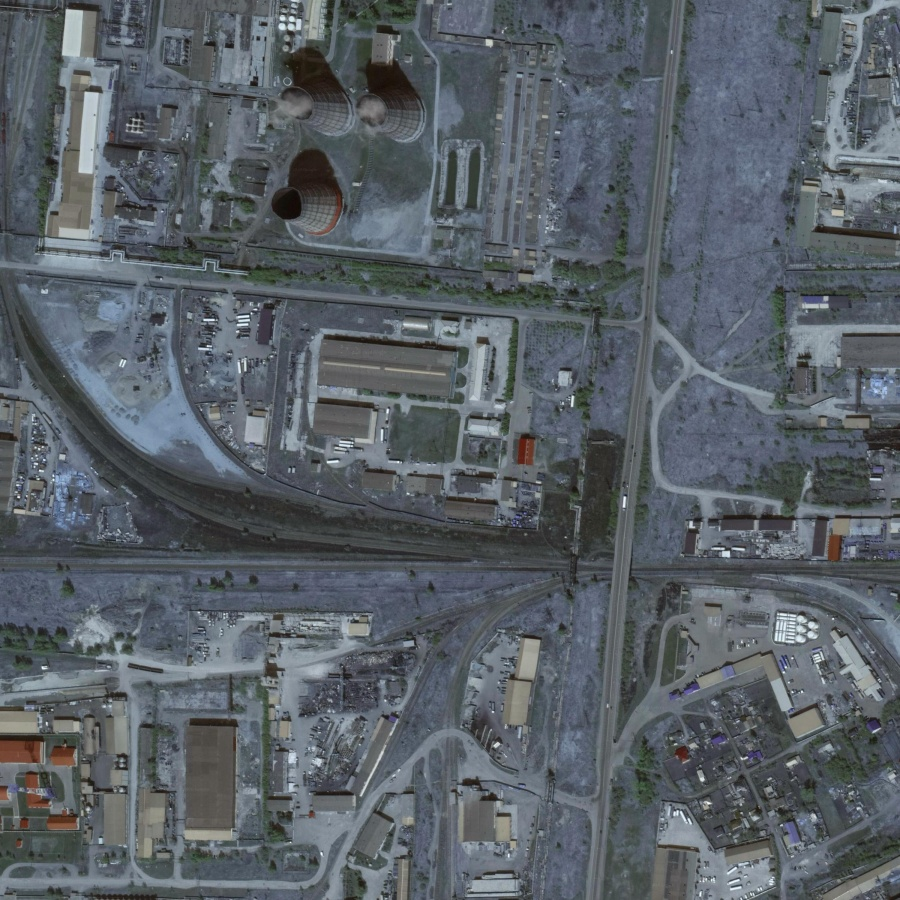PowerPlant: (263, 18, 452, 273)
